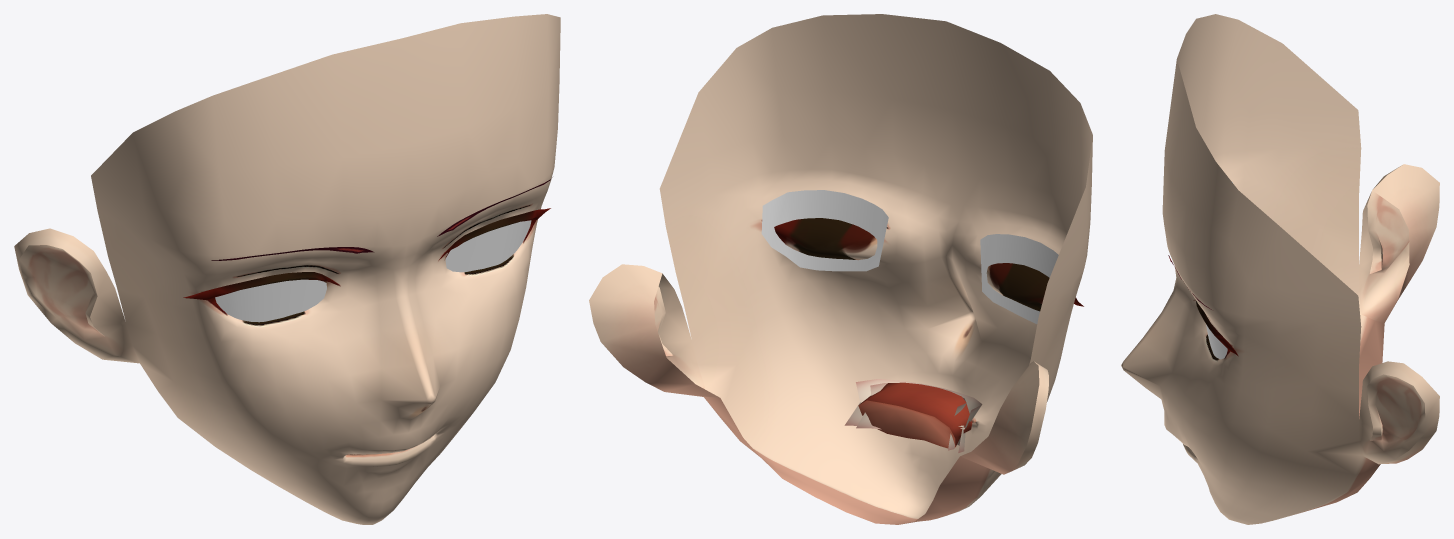
File: Tsukasa.fbx
The picture shows the model from 3 angles, left to right: view 1: azimuth 30°, elevation 25°; view 2: azimuth 150°, elevation 25°; view 3: azimuth 270°, elevation 25°; orthographic projection. The views are drawn at different scales.
Visible parts, largest first — view 1: M_Head, M_Eye_B_Def, M_Mth_B_Def, M_PupALL_R_A_Def, M_PupALL_L_A_Def, M_Brw_B_Def; view 2: M_Head, M_Eye_B_Def, M_Mth_B_Def, M_PupALL_L_A_Def, M_PupALL_R_A_Def; view 3: M_Head, M_Eye_B_Def, M_Mth_B_Def.
Part boxes in pixels (bbox=[...]): M_Head: bbox=[14, 14, 560, 397]; M_Eye_B_Def: bbox=[142, 129, 557, 411]; M_Mth_B_Def: bbox=[140, 350, 510, 524]; M_PupALL_R_A_Def: bbox=[215, 279, 326, 322]; M_PupALL_L_A_Def: bbox=[445, 220, 531, 272]; M_Brw_B_Def: bbox=[211, 177, 552, 260]; M_Head: bbox=[589, 14, 1092, 474]; M_Eye_B_Def: bbox=[707, 136, 1090, 401]; M_Mth_B_Def: bbox=[704, 312, 1025, 524]; M_PupALL_L_A_Def: bbox=[761, 190, 888, 271]; M_PupALL_R_A_Def: bbox=[980, 234, 1058, 323]; M_Head: bbox=[1162, 14, 1439, 464]; M_Eye_B_Def: bbox=[1121, 110, 1280, 447]; M_Mth_B_Def: bbox=[1121, 314, 1384, 524].
Bounding box in the file's own units: 0.1778 × 0.1772 × 0.1108.
5 materials, 3 textured.
